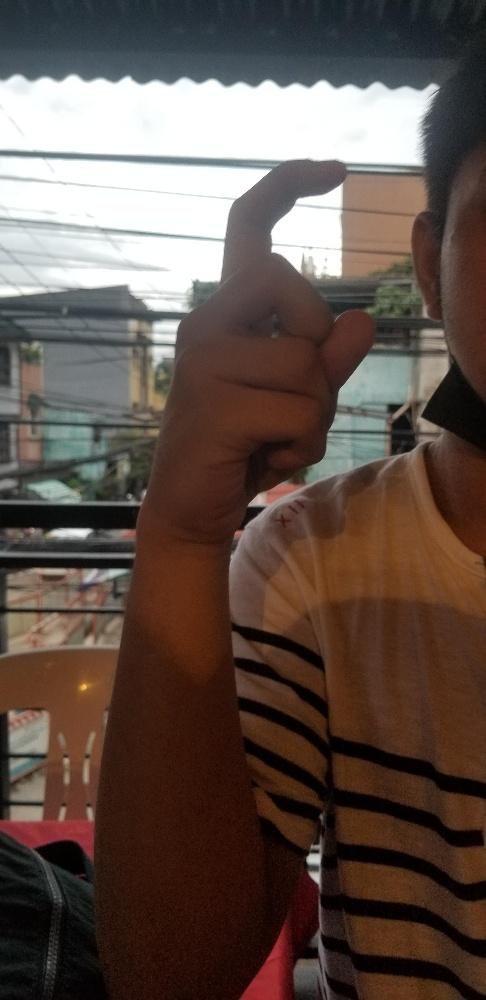x: (142, 159, 375, 528)
